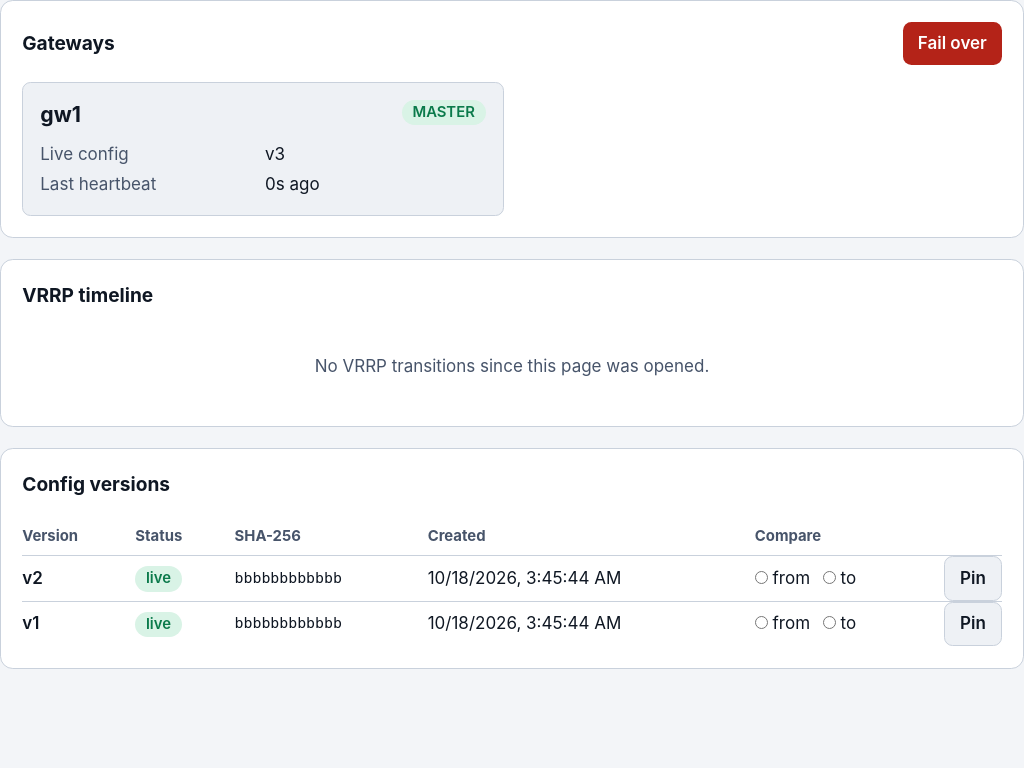
Test: Gateways › an admin compares two config versions and sees only the changed lines
Click the radio button with aria-label "compare from v1" at (761, 623), box [755, 616, 768, 629]
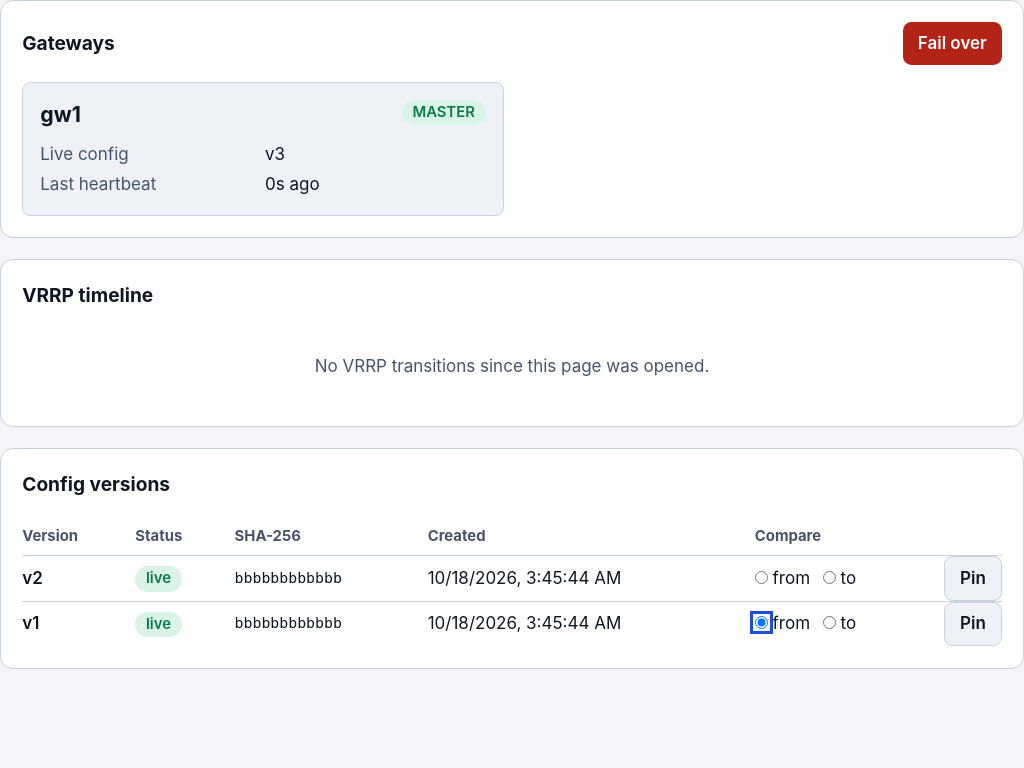
Click the radio button with aria-label "compare to v2" at (829, 577), box [823, 571, 836, 584]
(page scrolled)
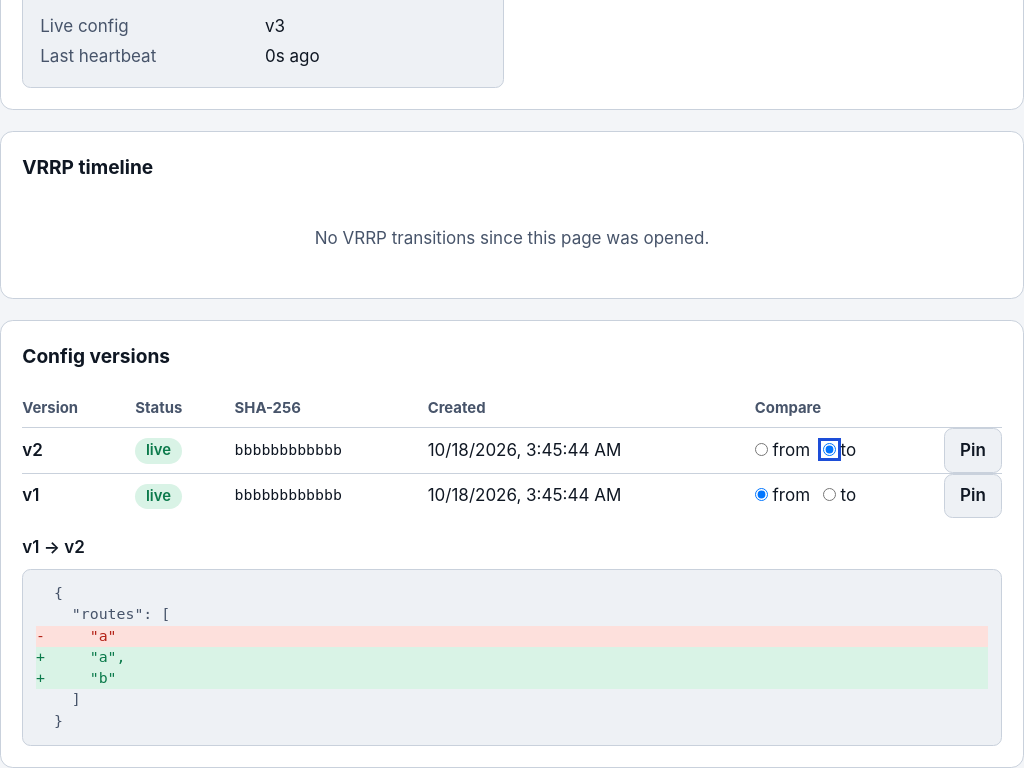
Check: the text "+ \"b\"" is shown, box [36, 668, 988, 689]
Check: the text "- \"a\"" is shown, box [36, 626, 988, 647]
